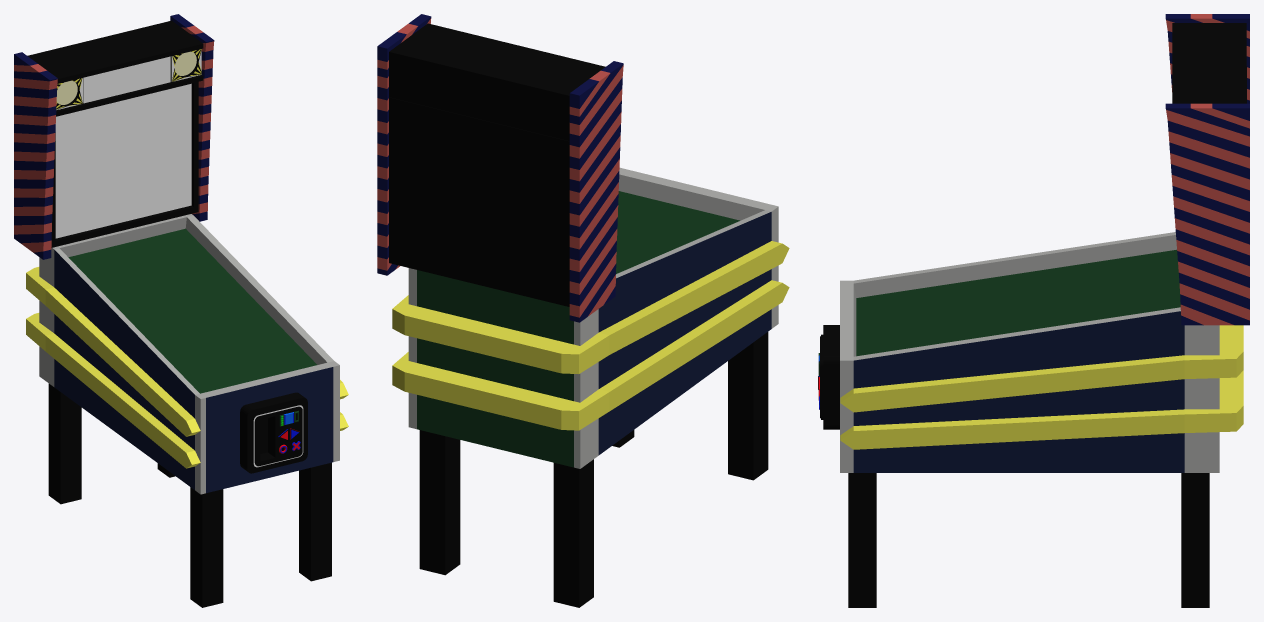
Rendered from LevelSelectPinballMachineColored2.fbx.
3 renders of one model, left to right at view 1: azimuth 30°, elevation 25°; view 2: azimuth 150°, elevation 25°; view 3: azimuth 270°, elevation 25°, orthographic. The views are drawn at different scales.
Visible parts, largest first — view 1: MainBody, Poster, Legs, TopSides, TopHeader, Main, MidPoster, Header; view 2: MainBody, MidPoster, Legs, TopSides, TopHeader; view 3: MainBody, TopSides, Legs, TopHeader, Main.
Part boxes in pixels (x1,y1,x2,y2): MainBody: (26,214,348,494); Poster: (55,83,191,238); Legs: (48,383,331,607); TopSides: (14,14,214,259); TopHeader: (27,20,203,116); Main: (240,392,307,473); MidPoster: (51,81,198,247); Header: (83,56,170,103); MainBody: (392,167,789,468); MidPoster: (389,97,569,306); Legs: (419,332,768,607); TopSides: (377,14,623,322); TopHeader: (389,23,605,140); MainBody: (840,232,1243,472); TopSides: (1165,14,1249,325); Legs: (848,473,1209,607); TopHeader: (1172,23,1246,103); Main: (818,325,839,429).
Size of the model in its own units: 76.29 by 192 by 148.
